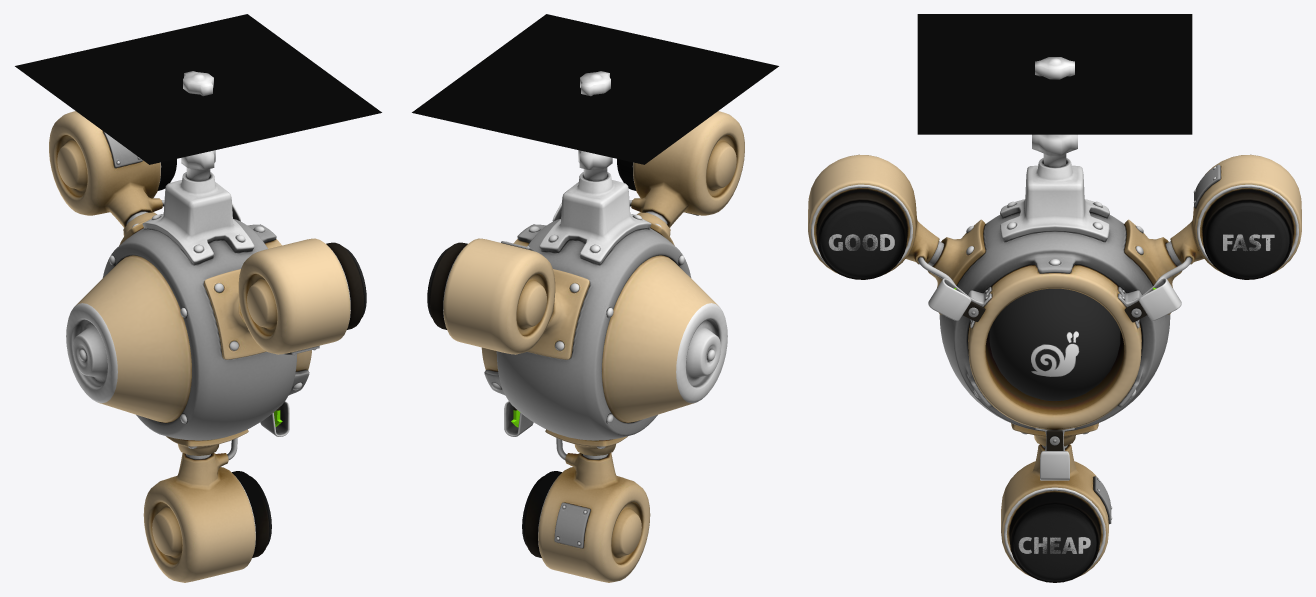
Rendered from gfc-hq.glb.
3 renders of one model, left to right at view 1: azimuth 30°, elevation 25°; view 2: azimuth 150°, elevation 25°; view 3: azimuth 270°, elevation 25°, orthographic.
Visible parts, largest first — view 1: casing, propeller, button1, button3; view 2: casing, propeller, button2, button3; view 3: casing, propeller, sphere, button3, button1, button2, light2, light3, light1.
Boxes of the visible parts, x1,y1,x2,y2 form: casing: (49, 111, 350, 582); propeller: (15, 14, 381, 181); button1: (326, 242, 366, 329); button3: (232, 471, 271, 557); casing: (443, 111, 744, 582); propeller: (412, 14, 778, 181); button2: (427, 242, 467, 329); button3: (522, 471, 561, 557); casing: (808, 154, 1301, 577); propeller: (917, 14, 1192, 167); sphere: (989, 288, 1120, 400); button3: (1009, 492, 1100, 582); button1: (817, 189, 906, 279); button2: (1203, 189, 1292, 279); light2: (1197, 184, 1298, 266); light3: (1004, 487, 1105, 568); light1: (811, 184, 912, 266).
Size of the model in its own units: 1.18 by 2.39 by 2.11.
2 materials, 1 textured.
